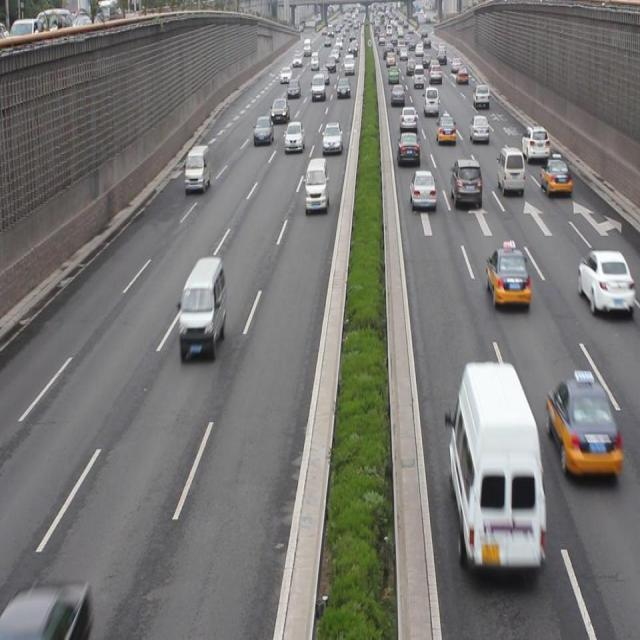car: (545, 368, 621, 476), (574, 248, 640, 316), (484, 242, 531, 310), (450, 158, 480, 207), (539, 155, 571, 197), (408, 166, 435, 207), (518, 127, 548, 162), (396, 132, 418, 167), (282, 119, 303, 155), (398, 105, 418, 136), (253, 115, 273, 145), (435, 116, 455, 145), (322, 123, 341, 152), (468, 115, 486, 143)
truck: (447, 359, 542, 580), (178, 256, 224, 356), (305, 158, 329, 212), (183, 143, 210, 191), (495, 148, 522, 192)
